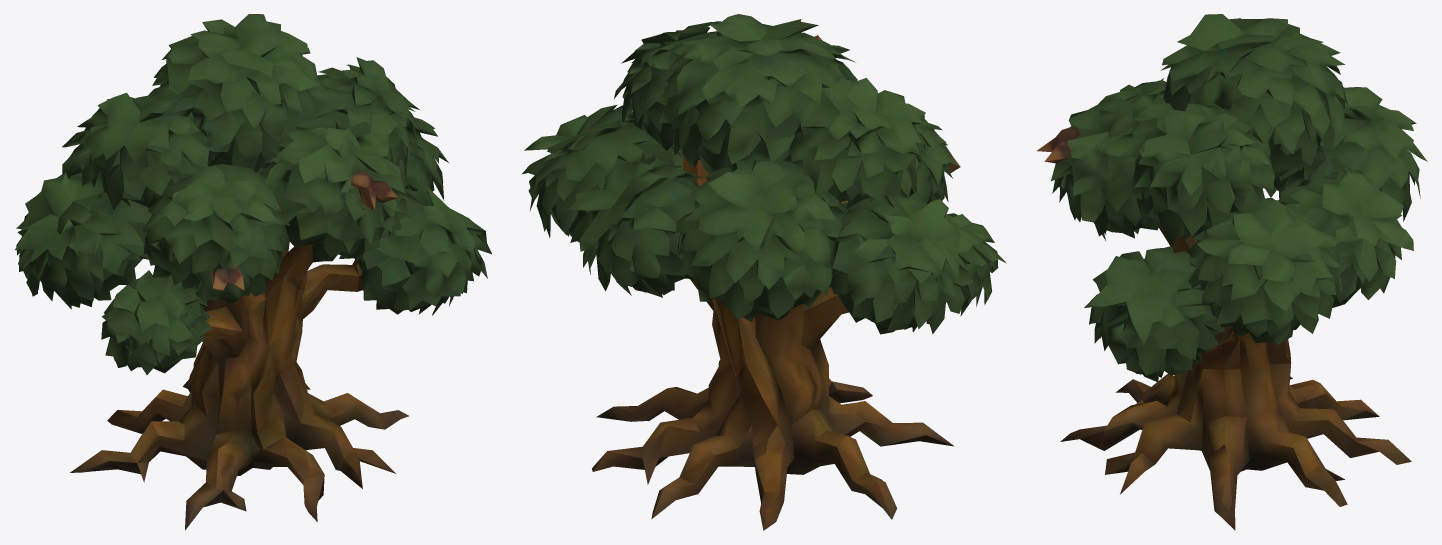
File: tree_maple_idle.glb
3 views of the same model, side by side, from view 1: azimuth 30°, elevation 25°; view 2: azimuth 150°, elevation 25°; view 3: azimuth 270°, elevation 25° (orthographic). The views are drawn at different scales.
Visible parts, largest first — view 1: tripo_node_a72c0920-302f-4604-badd-927954a7889f; view 2: tripo_node_a72c0920-302f-4604-badd-927954a7889f; view 3: tripo_node_a72c0920-302f-4604-badd-927954a7889f.
Boxes of the visible parts, x1,y1,x2,y2 form: tripo_node_a72c0920-302f-4604-badd-927954a7889f: (15, 14, 491, 530); tripo_node_a72c0920-302f-4604-badd-927954a7889f: (522, 14, 1006, 530); tripo_node_a72c0920-302f-4604-badd-927954a7889f: (1037, 14, 1427, 530).
Size of the model in its own units: 5.17 by 4.99 by 4.14.
1 material, 1 textured.
